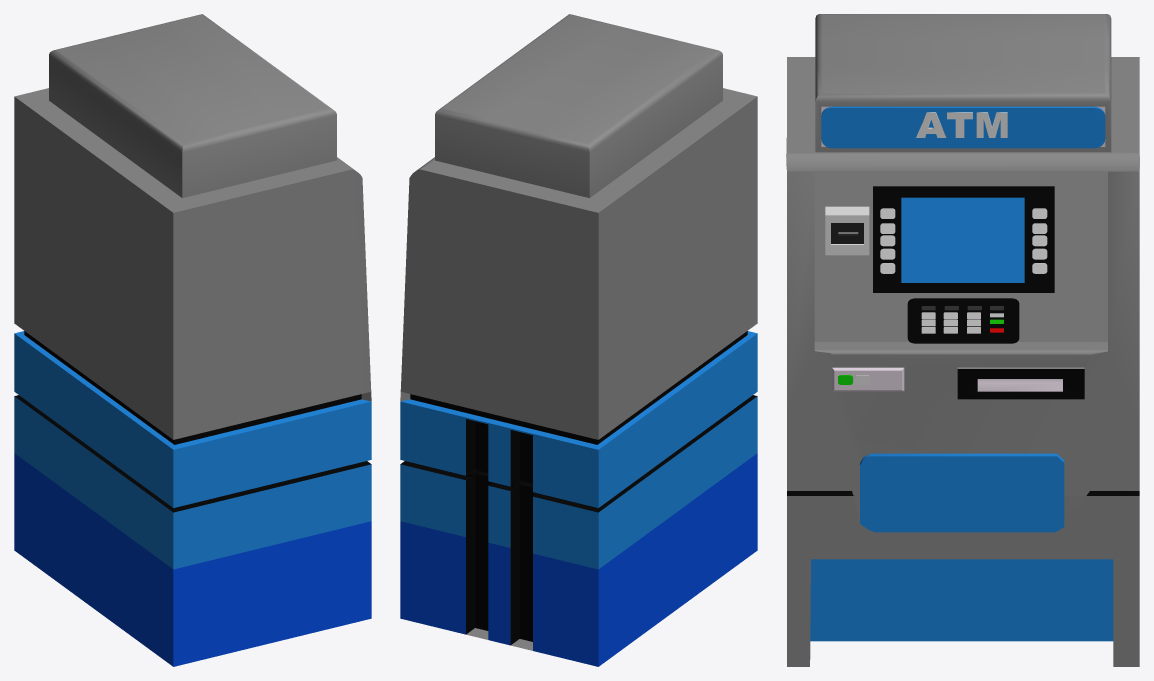
Rendered from atm.glb.
3 renders of one model, left to right at view 1: azimuth 30°, elevation 25°; view 2: azimuth 150°, elevation 25°; view 3: azimuth 270°, elevation 25°, orthographic. The views are drawn at different scales.
Parts seen in each view (by area): view 1: Base model of the atm; view 2: Base model of the atm; view 3: Base model of the atm, Screen, Numpad, Card inserter, ATM.
Part boxes in pixels (bbox=[...]): Base model of the atm: bbox=[14, 14, 371, 666]; Base model of the atm: bbox=[400, 14, 757, 666]; Base model of the atm: bbox=[786, 14, 1139, 666]; Screen: bbox=[873, 186, 1054, 292]; Numpad: bbox=[907, 298, 1019, 343]; Card inserter: bbox=[825, 206, 869, 255]; ATM: bbox=[916, 112, 1007, 137].
Bounding box in the file's own units: 1.5 × 3.57 × 2.04.
